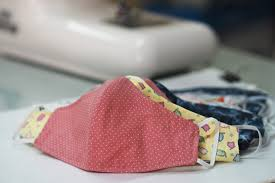cloth_mask: (36, 77, 212, 173)
